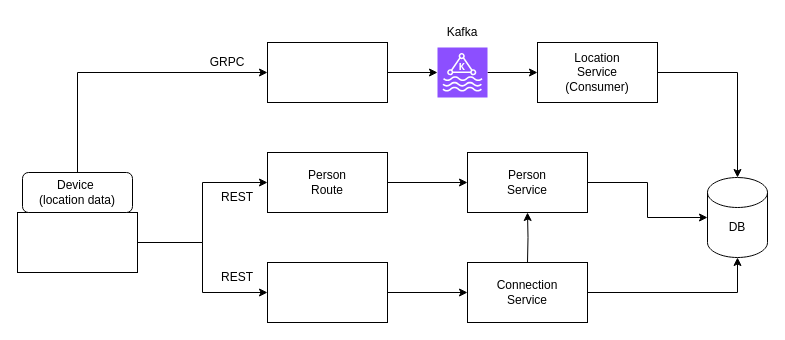
Some shapes in this 785 by 340 pixel diagram are drawn without their labels. Each missing label, with the centre of its shape:
Connection Route: the point at 327,292
FE: the point at 77,242
Location Service (Producer): the point at 327,72
